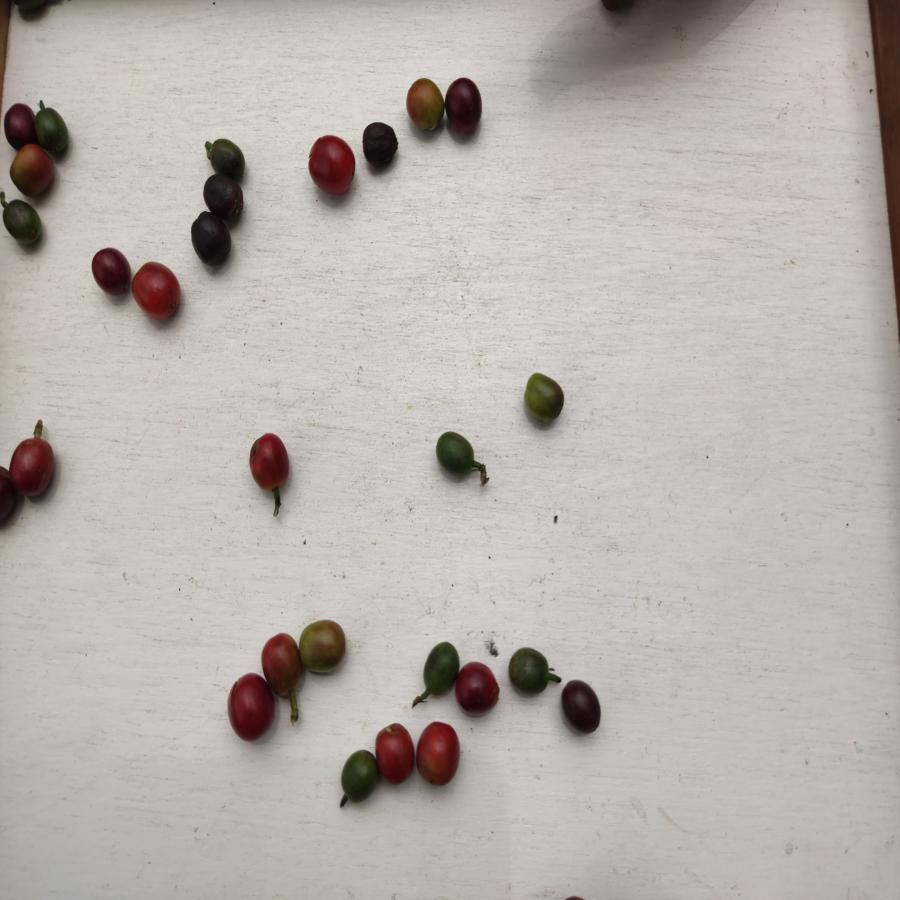Inmaduro: (505, 643, 552, 697), (1, 200, 45, 248), (422, 638, 457, 696), (435, 431, 476, 476), (342, 749, 375, 804), (36, 105, 70, 152), (206, 138, 248, 175)
Maduro: (412, 718, 465, 788), (12, 435, 60, 503), (225, 672, 271, 741), (132, 262, 183, 321), (247, 431, 295, 492), (259, 631, 302, 699), (308, 135, 356, 195), (376, 722, 415, 787)
Pinton: (298, 621, 346, 675), (11, 146, 57, 198), (521, 372, 566, 424), (406, 78, 442, 134)
Sobremaduro: (443, 78, 485, 138), (455, 662, 501, 715), (561, 678, 603, 736), (202, 173, 247, 222), (190, 213, 232, 265), (90, 248, 132, 297), (361, 123, 399, 167), (3, 101, 34, 143)
